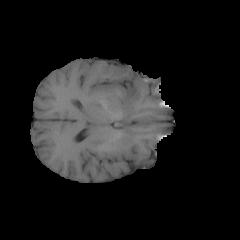glioma: (89, 67, 147, 127)
